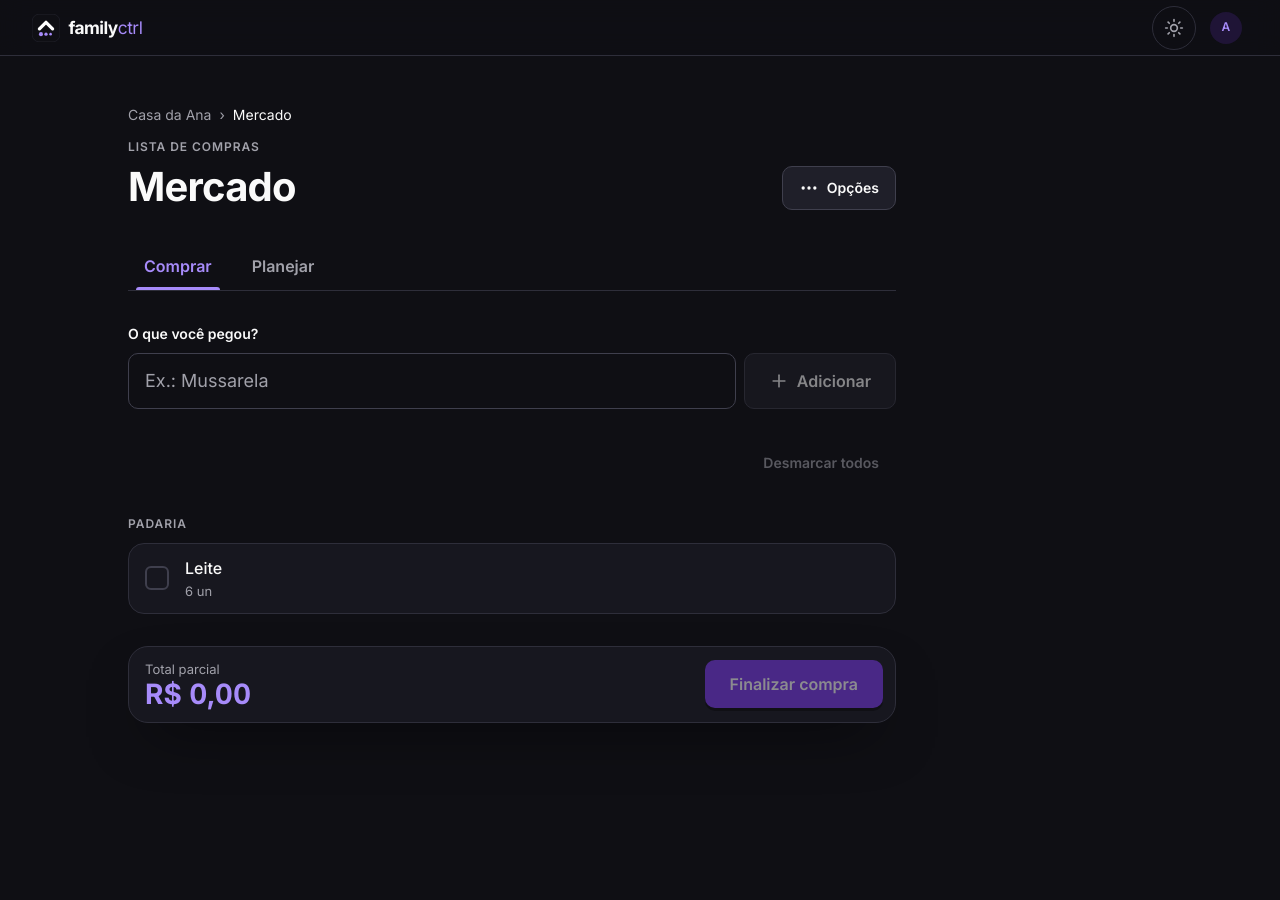
Test case: comprar › "O que você pegou?" com o nome de um item da lista abre o painel dele
The width and height of the screenshot is (1280, 900).
Step 1. Type "leite" into the field labelled "O que você pegou?" → x=432, y=381, box [128,353,736,409]
Then press Enter
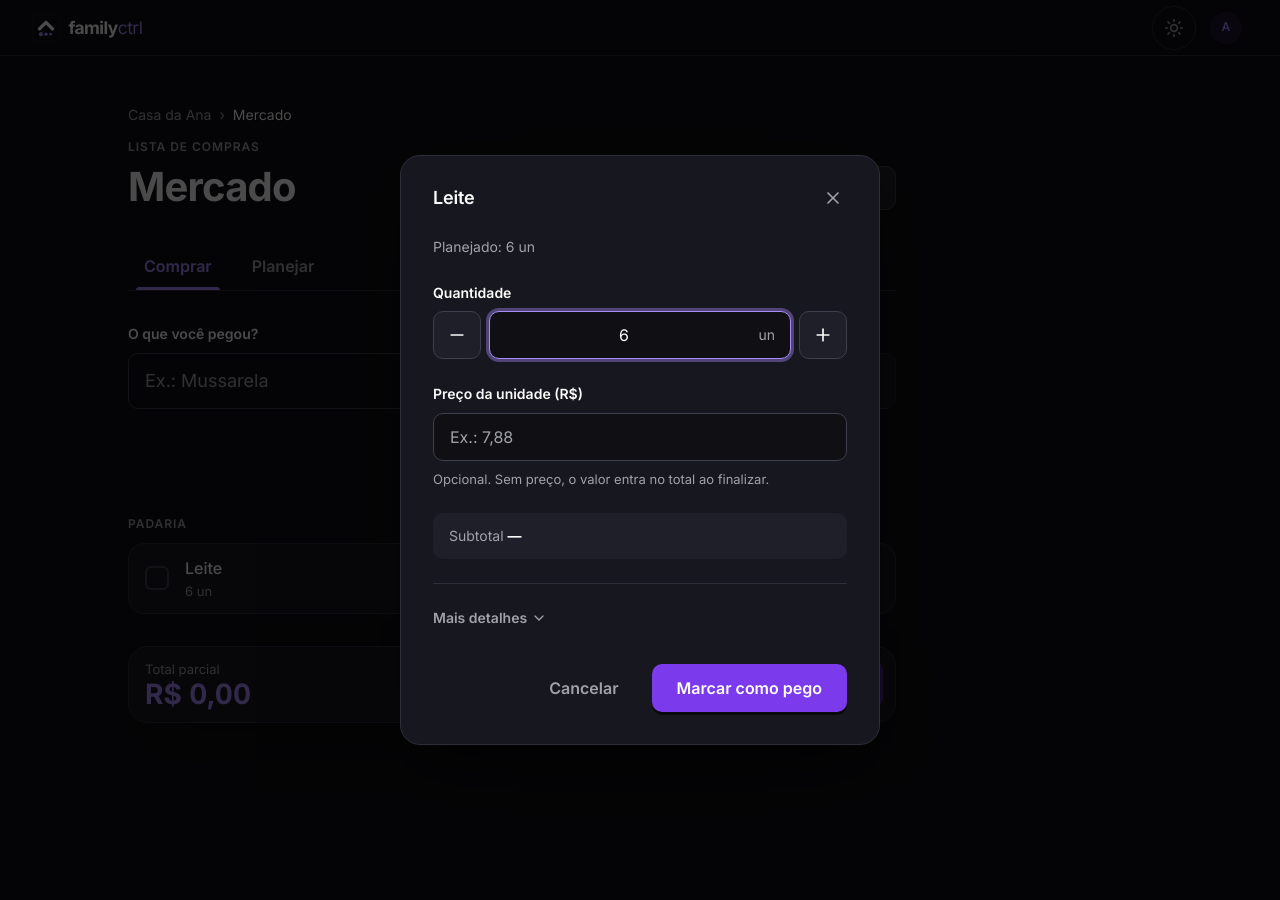
expect the text "Planejado: 6 un" is shown: met, box [433,238,535,255]
expect the field labelled "Quantidade" holds "6": met, box [489,311,791,359]
